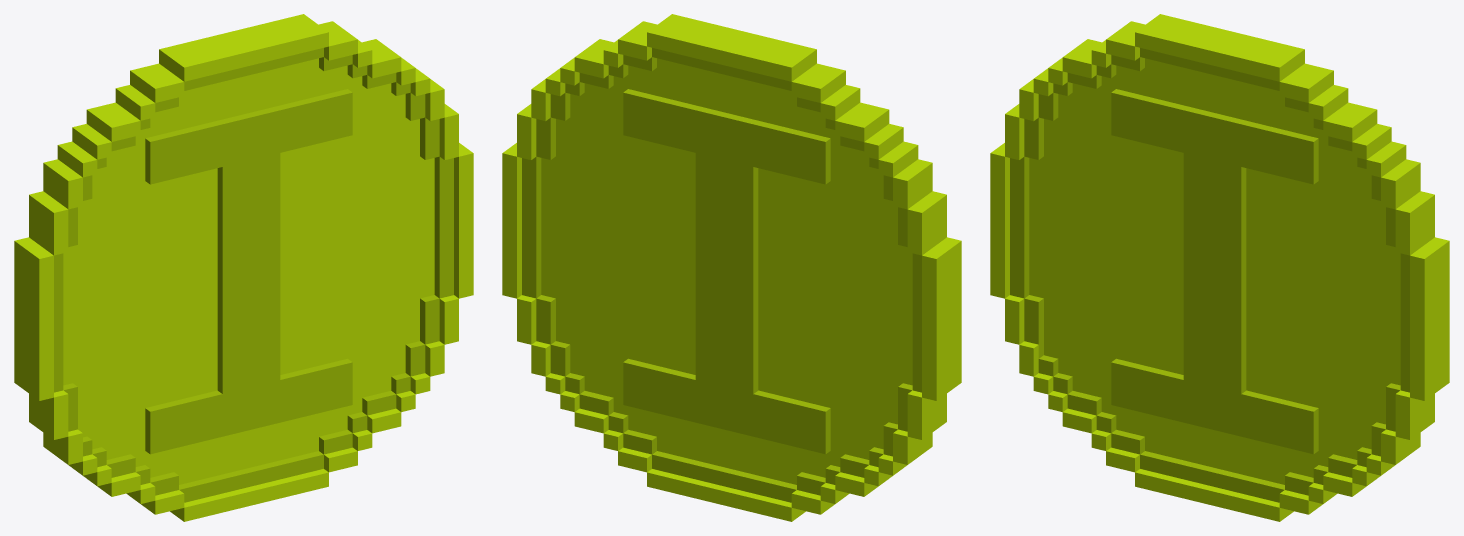
The model's file is Voxel_Coin_I.fbx.
3 views of the same model, side by side, from view 1: azimuth 30°, elevation 25°; view 2: azimuth 150°, elevation 25°; view 3: azimuth 330°, elevation 25° (orthographic).
Parts seen in each view (by area): view 1: Coin I.001; view 2: Coin I.001; view 3: Coin I.001.
Boxes of the visible parts, box(x1,y1,x2,y2) form: Coin I.001: box(14, 14, 473, 521); Coin I.001: box(502, 14, 961, 521); Coin I.001: box(990, 14, 1449, 521).
Size of the model in its own units: 60.96 by 60.96 by 6.1.
1 material, 1 textured.
